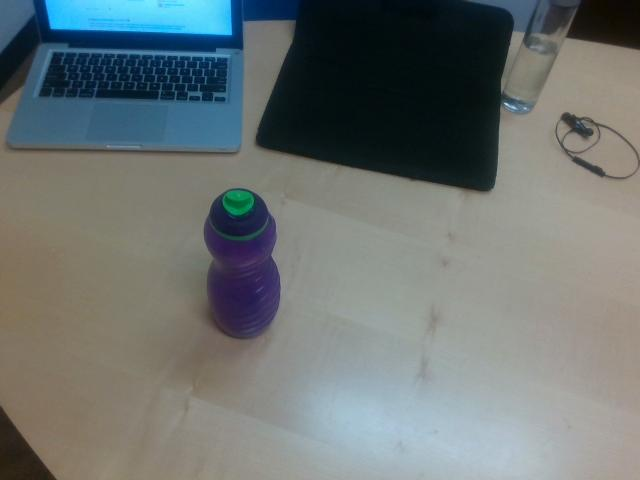bottle: (203, 188, 280, 339)
